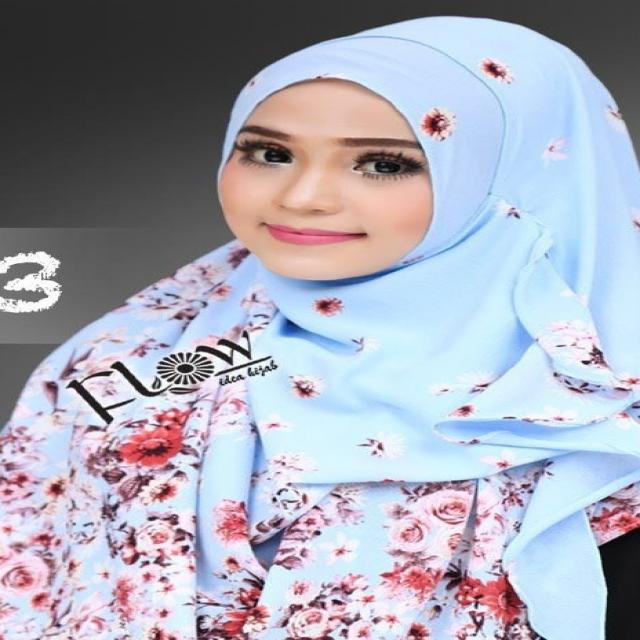head: (185, 16, 640, 286)
